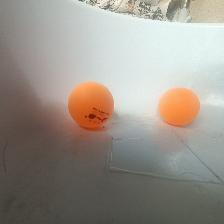YellowBall: (66, 81, 115, 131), (157, 87, 200, 126)
